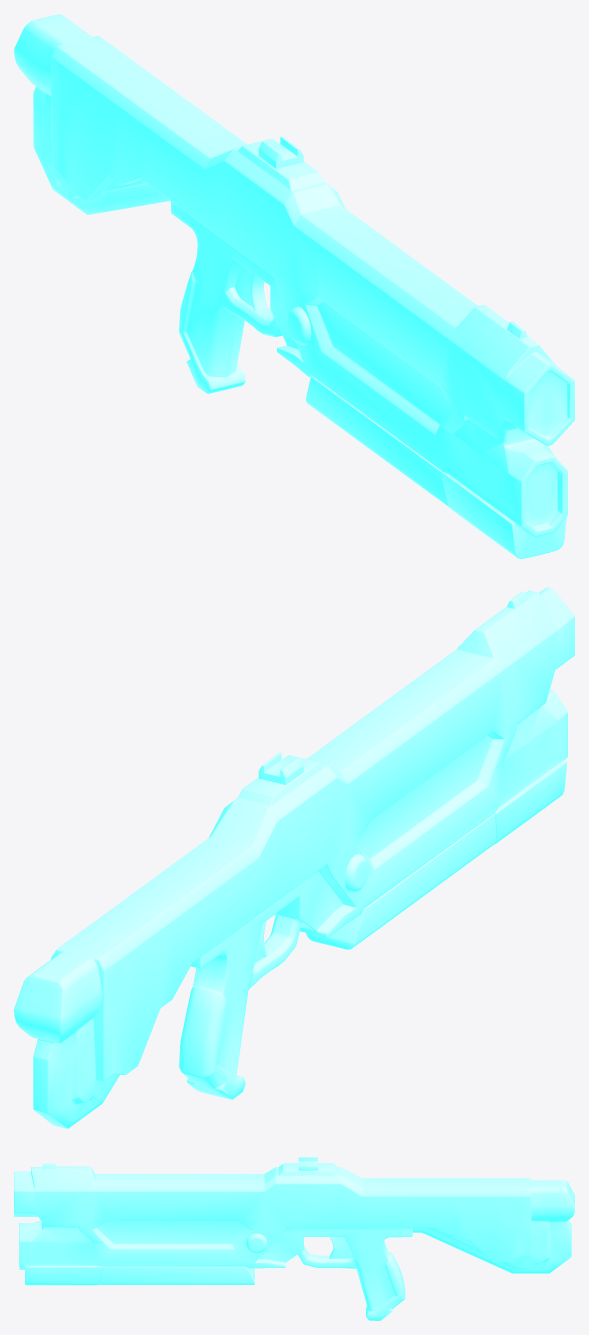
The model's file is scifishotgun01-1.glb.
3 renders of one model, top to bottom at view 1: azimuth 30°, elevation 25°; view 2: azimuth 150°, elevation 25°; view 3: azimuth 270°, elevation 25°, orthographic. The views are drawn at different scales.
Parts seen in each view (by area): view 1: SciFiShotGun01_1; view 2: SciFiShotGun01_1; view 3: SciFiShotGun01_1.
Boxes of the visible parts, left/top/right/bottom form: SciFiShotGun01_1: left=14, top=14, right=574, bottom=558; SciFiShotGun01_1: left=14, top=587, right=574, bottom=1128; SciFiShotGun01_1: left=14, top=1157, right=574, bottom=1320.
Bounding box in the file's own units: 0.0685 × 0.2788 × 0.9049.
